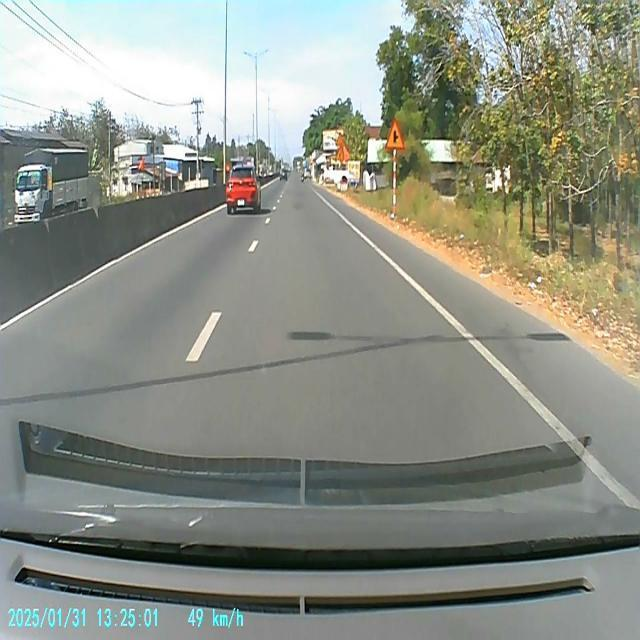207-giao-nhau-voi-duong-khong-uu-tien: (386, 116, 406, 152)
